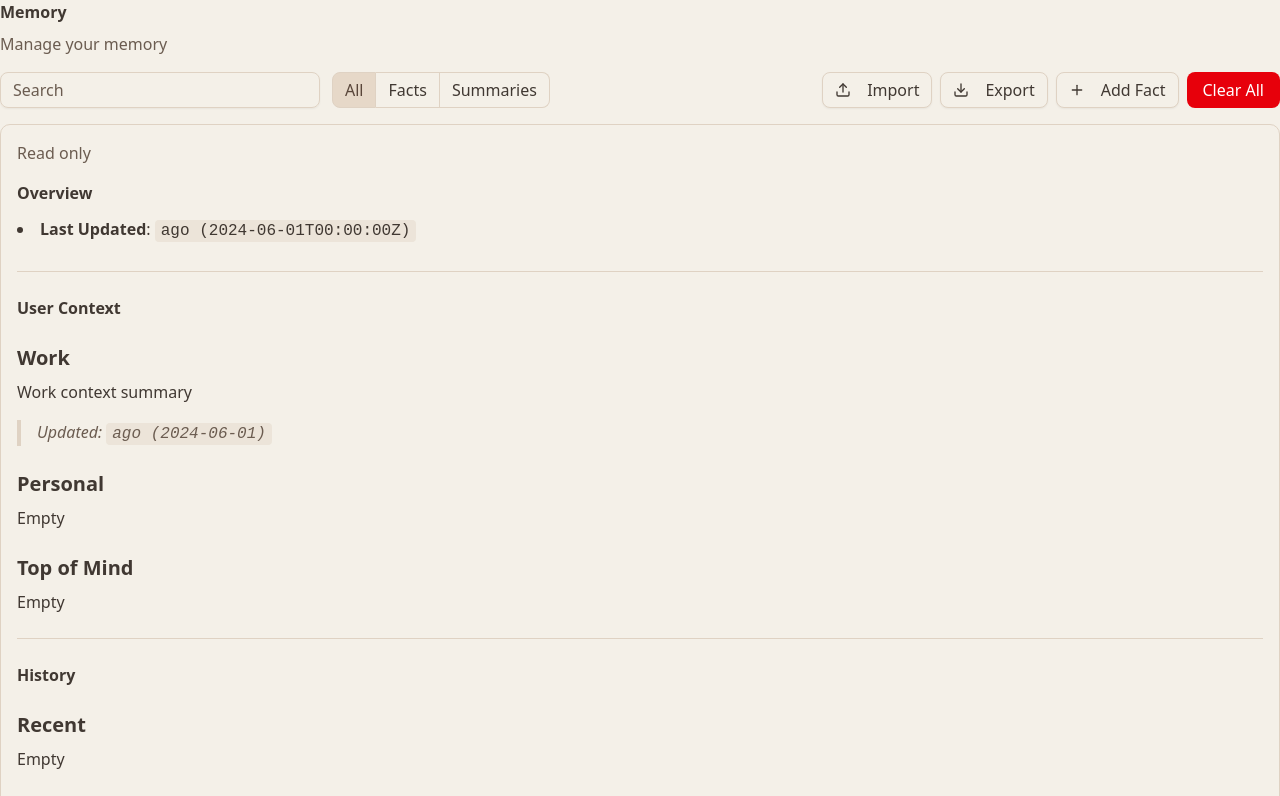
Test case: MemorySettingsPage › Clear all memory › clicking Clear All opens confirmation dialog
Click the button "Clear All" at (1233, 90), box x1=1186 y1=72 x2=1279 y2=108
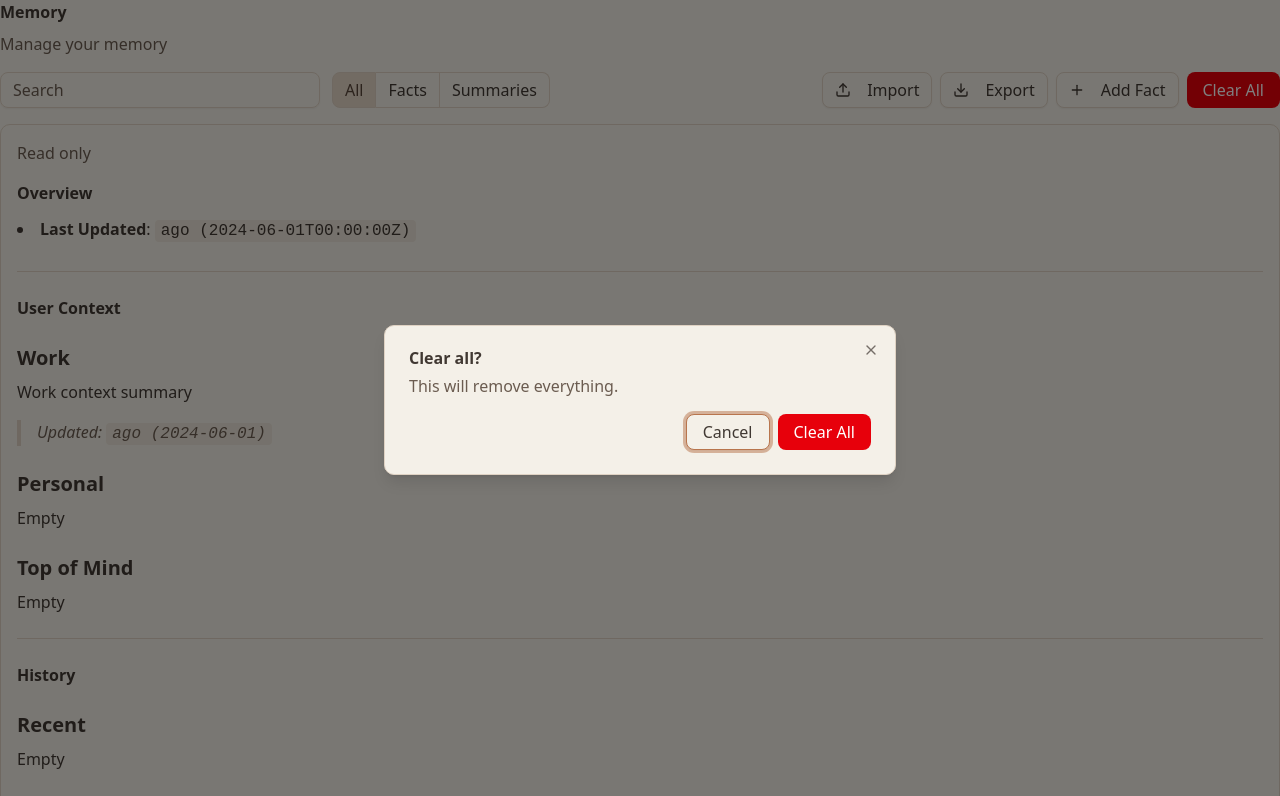
Expected: the heading "Clear all?" is shown, x1=409 y1=347 x2=482 y2=369
Expected: the text "This will remove everything." is shown, x1=409 y1=375 x2=618 y2=397
